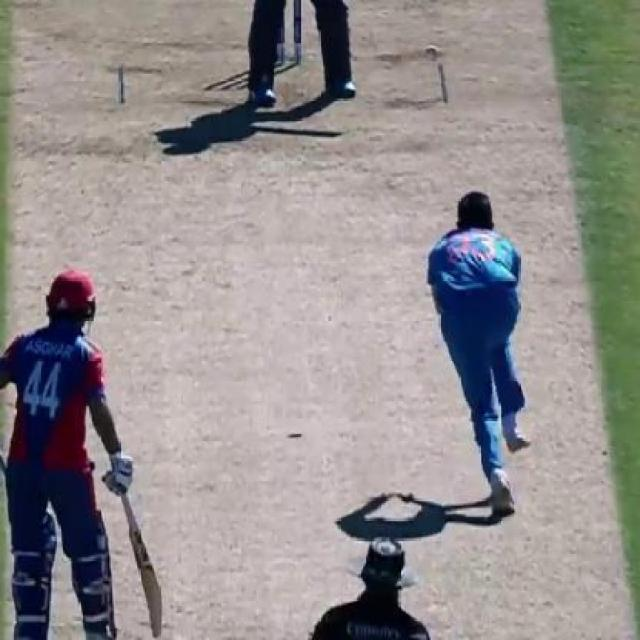Cricket ball: (423, 44, 441, 61)
